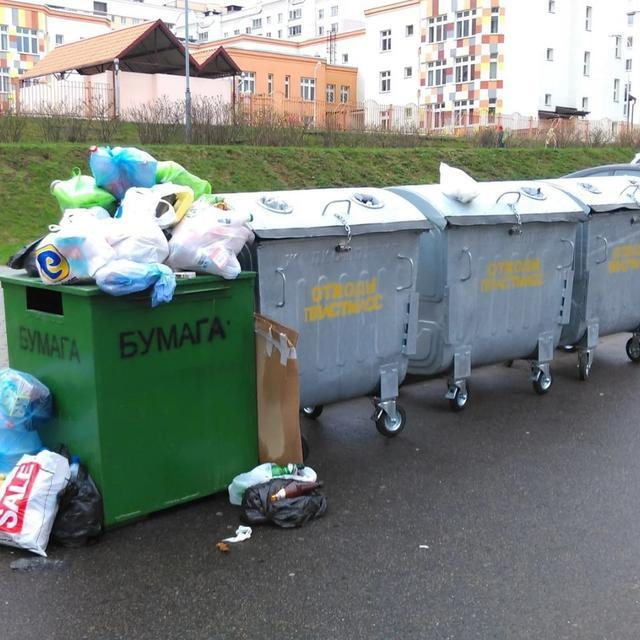Trash_Can_Closed: (220, 187, 434, 410), (384, 180, 588, 379), (536, 175, 640, 352)
Trash_Can_Full: (0, 145, 258, 533)
